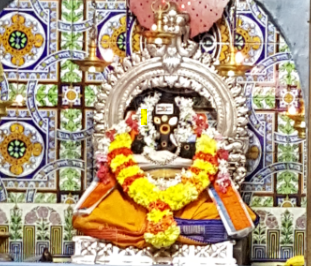Hindu Temple: (87, 29, 239, 239)
